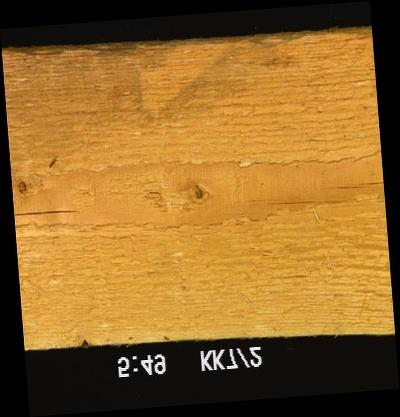dry_knot: (14, 178, 28, 198)
split: (264, 198, 319, 207), (13, 208, 82, 215), (331, 182, 383, 190)
wave: (1, 28, 371, 57)
